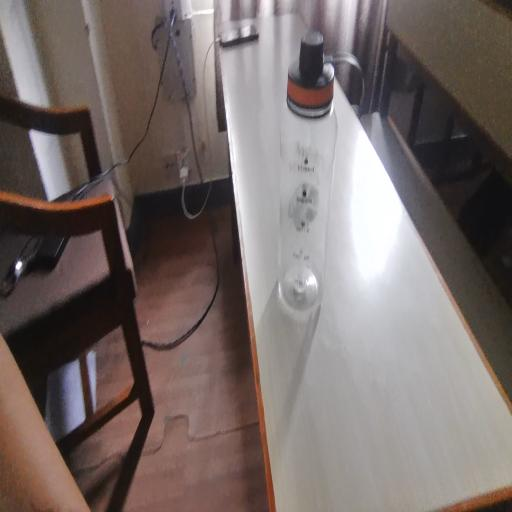Bottle: (265, 45, 359, 360)
